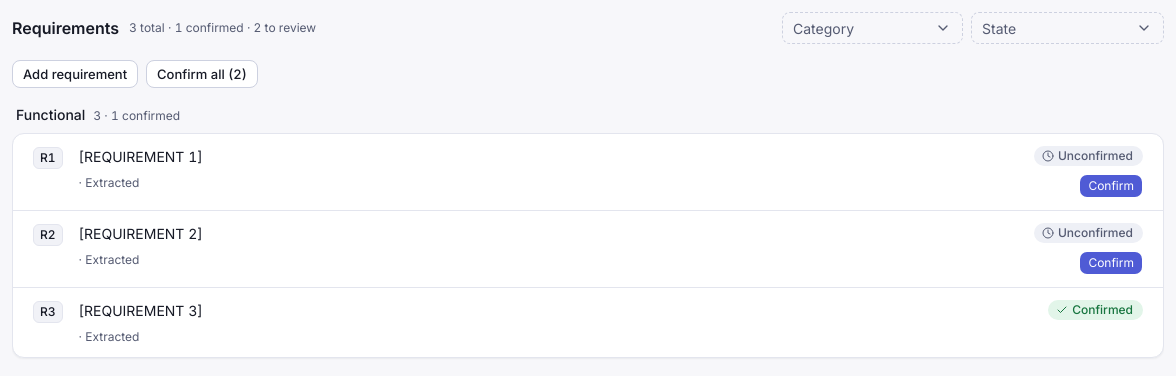
Test: confirming Requirements › Confirm all (N) counts the unconfirmed, confirms them and reloads
The width and height of the screenshot is (1176, 376).
Click the button "Confirm all (2)".
click(202, 74)  # box left=146, top=60, right=258, bottom=88
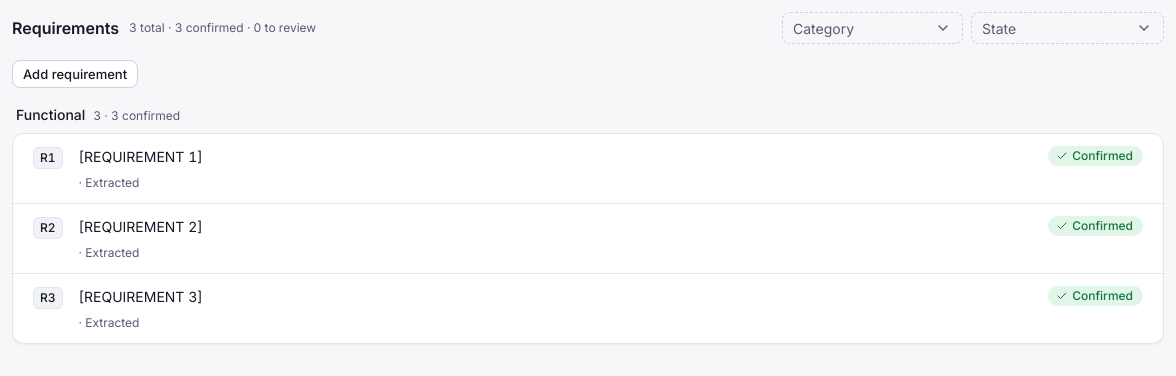
Check: the text "Confirmed" is shown 3 times, box left=1048, top=146, right=1143, bottom=166; left=1048, top=216, right=1143, bottom=236; left=1048, top=286, right=1143, bottom=306
Check: the button "Confirm all" is gone
